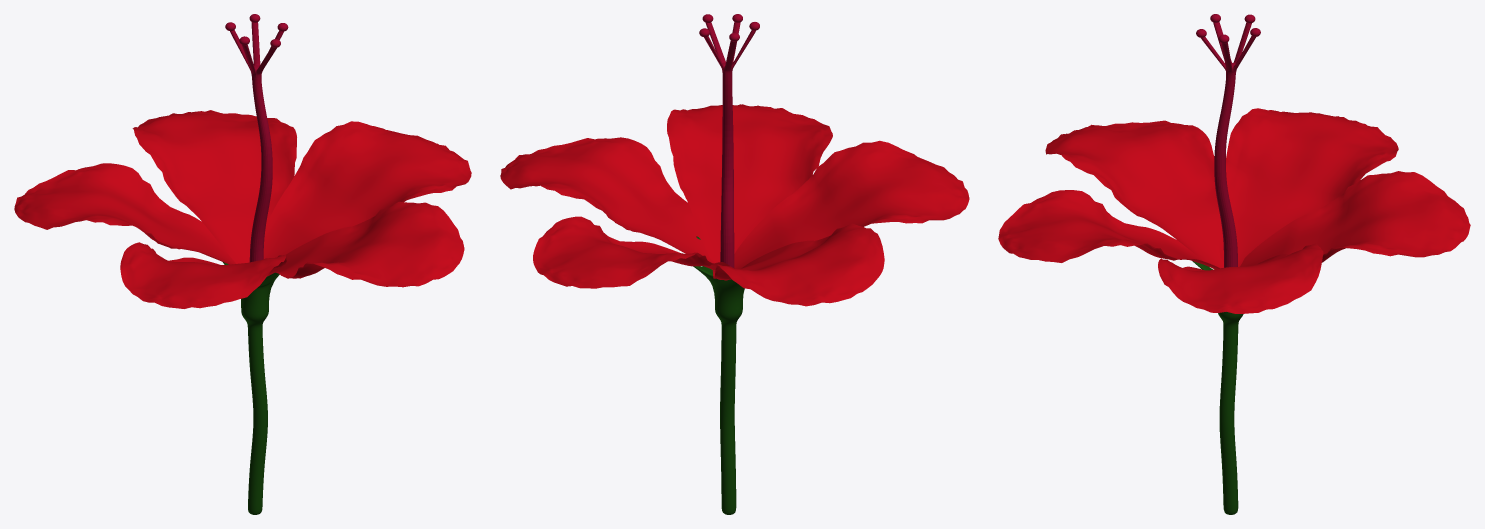
The model's file is hibiscus.fbx.
3 views of the same model, side by side, from view 1: azimuth 30°, elevation 25°; view 2: azimuth 150°, elevation 25°; view 3: azimuth 270°, elevation 25° (orthographic).
Visible parts, largest first — view 1: Circle, Cylinder.001, Cylinder; view 2: Circle, Cylinder.001, Cylinder; view 3: Circle, Cylinder, Cylinder.001.
Part boxes in pixels (left/top/right/bottom): Circle: left=14, top=110, right=471, bottom=308; Cylinder.001: left=223, top=262, right=279, bottom=514; Cylinder: left=225, top=14, right=288, bottom=262; Circle: left=500, top=104, right=969, bottom=306; Cylinder.001: left=693, top=236, right=744, bottom=514; Cylinder: left=699, top=14, right=759, bottom=268; Circle: left=998, top=108, right=1470, bottom=313; Cylinder: left=1196, top=14, right=1260, bottom=267; Cylinder.001: left=1192, top=261, right=1243, bottom=514.
Size of the model in its own units: 501 by 587 by 511.
